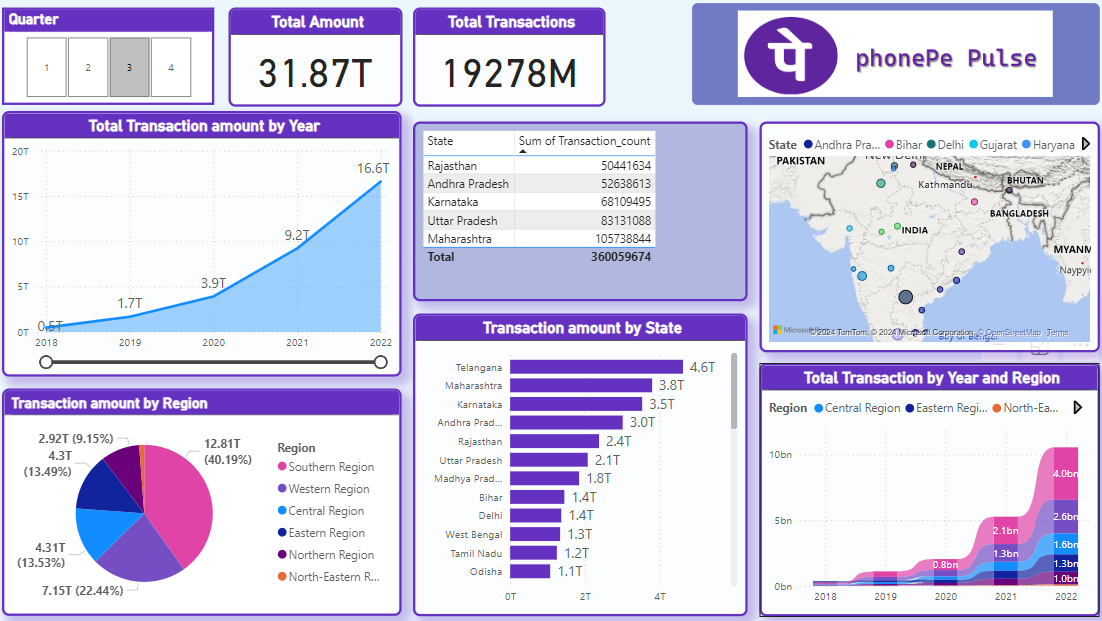

Layout of this report page (visuals, bound fields, positions):
{"tool":"powerbi","page":{"name":"Page 1","canvas":[1280,720],"ordinal":0},"visuals":[{"type":"card","title":"Total Amount","fields":{"Values":["Sum(aggrigation transaction.Transaction_amount)"]},"box":[266.7,8.8,200,114],"z":0},{"type":"lineChart","title":"Total Transaction amount by Year","fields":{"Category":["aggrigation transaction.Year"],"Y":["Sum(aggrigation transaction.Transaction_amount)"]},"box":[7,128.1,459.6,305.3],"z":1000},{"type":"slicer","title":"Quarter","fields":{"Values":["aggrigation transaction.Quarter"]},"box":[7,8.8,243.9,112.3],"z":2000},{"type":"clusteredBarChart","title":"Transaction amount by State","fields":{"Category":["aggrigation transaction.State"],"Y":["Sum(aggrigation transaction.Transaction_amount)"]},"box":[479.3,360.3,384.5,348.3],"z":3000},{"type":"ribbonChart","title":"Total Transaction by Year and Region","fields":{"Category":["aggrigation transaction.Year"],"Y":["Sum(aggrigation transaction.Transaction_count)"],"Series":["aggrigation transaction.Region"]},"box":[877.6,417.2,391.4,291.4],"z":4000},{"type":"map","fields":{"Y":["mapTransaction.Latitude"],"X":["mapTransaction.Longitude"],"Series":["mapTransaction.State"],"Size":["Sum(mapTransaction.Transaction_amount)"]},"box":[877.6,139.7,391.4,265.5],"z":5000},{"type":"tableEx","fields":{"Values":["aggrigation user.State","Sum(aggrigation user.Transaction_count)"]},"box":[479.3,139.7,384.5,206.9],"z":6000},{"type":"card","title":"Total Transactions","fields":{"Values":["Sum(aggrigation transaction.Transaction_count)"]},"box":[479.3,6.9,220.7,113.8],"z":8000},{"type":"image","box":[800,3.5,468.4,117.5],"z":9000},{"type":"pieChart","title":"Transaction amount by Region","fields":{"Category":["aggrigation transaction.Region"],"Y":["Sum(aggrigation transaction.Transaction_amount)"]},"box":[7,447.4,459.6,261.4],"z":9001}]}

Visuals, with their boxes in screenshot pixels (x1, y1, x2, y2), scaled from the page's 1280x720 canvas onto the 1102x621 screenshot:
"Total Amount" card: {"x1": 230, "y1": 8, "x2": 402, "y2": 106}
"Total Transaction amount by Year" lineChart: {"x1": 6, "y1": 110, "x2": 402, "y2": 374}
"Quarter" slicer: {"x1": 6, "y1": 8, "x2": 216, "y2": 104}
"Transaction amount by State" clusteredBarChart: {"x1": 413, "y1": 311, "x2": 744, "y2": 611}
"Total Transaction by Year and Region" ribbonChart: {"x1": 756, "y1": 360, "x2": 1093, "y2": 611}
map - mapTransaction.Latitude x mapTransaction.Longitude: {"x1": 756, "y1": 120, "x2": 1093, "y2": 349}
tableEx - aggrigation user.State x Sum(aggrigation user.Transaction_count): {"x1": 413, "y1": 120, "x2": 744, "y2": 299}
"Total Transactions" card: {"x1": 413, "y1": 6, "x2": 603, "y2": 104}
image: {"x1": 689, "y1": 3, "x2": 1092, "y2": 104}
"Transaction amount by Region" pieChart: {"x1": 6, "y1": 386, "x2": 402, "y2": 611}
